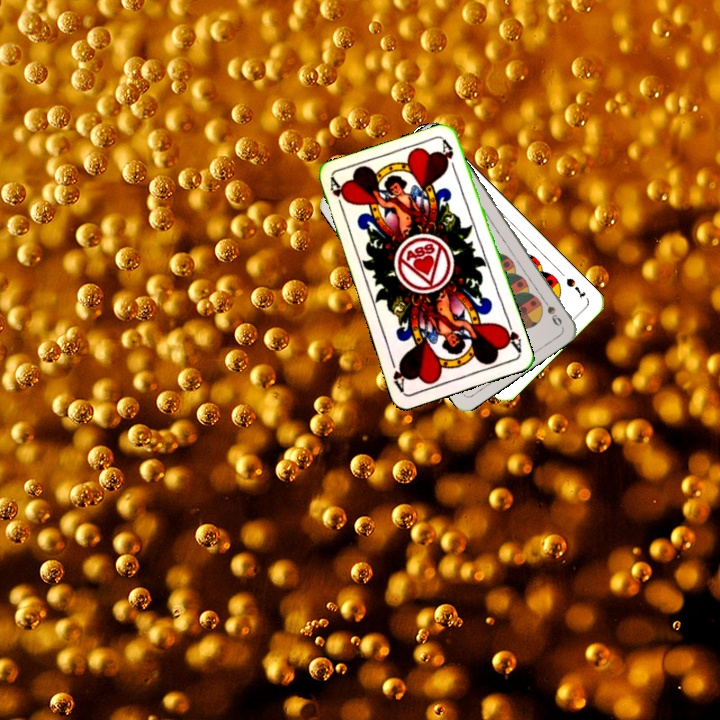HA: (498, 315, 524, 355), (326, 175, 350, 215)
S7: (562, 274, 588, 301)
S9: (537, 293, 565, 329)
